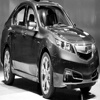faced: (31, 42, 64, 81)
